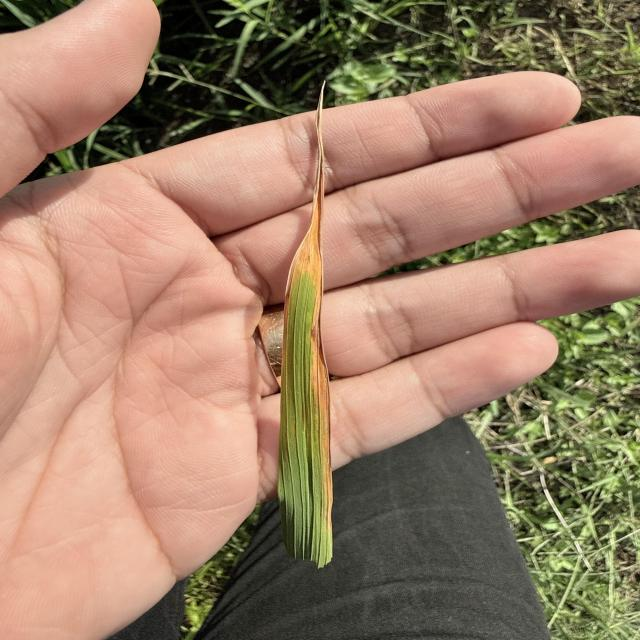Chay bia la: (282, 79, 332, 527)
